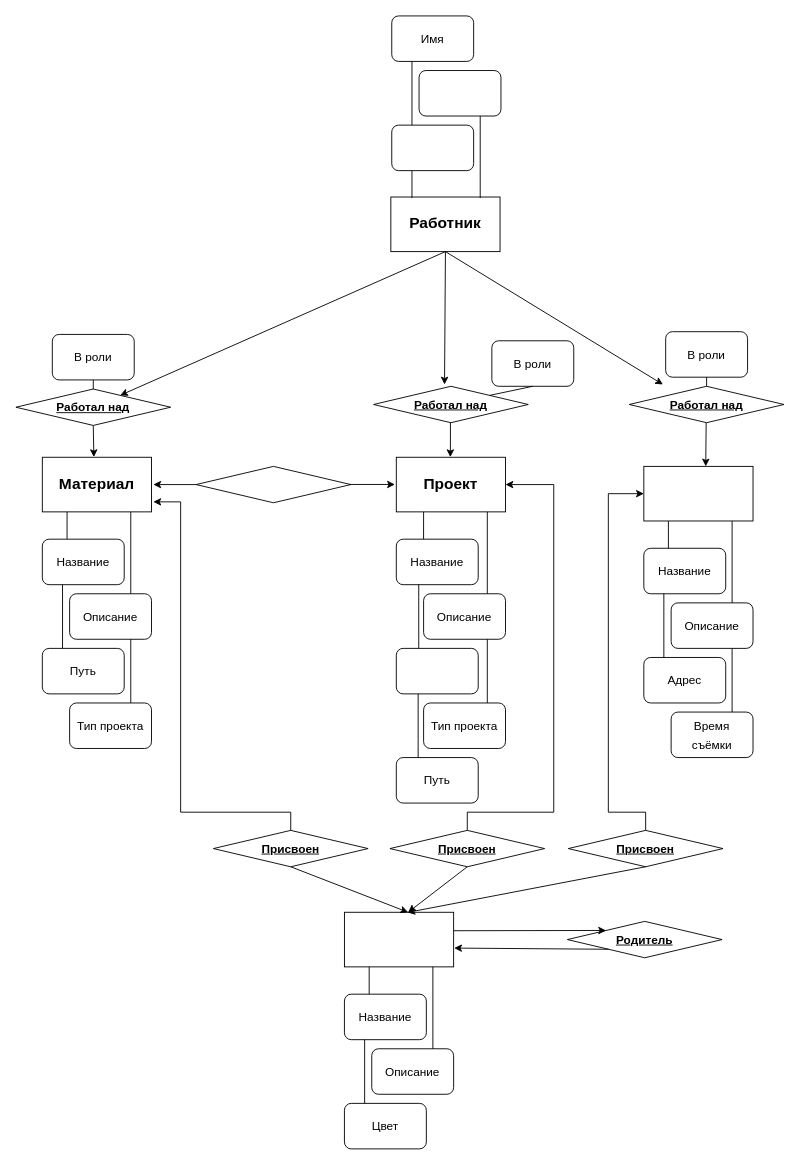
The diagram is 800 pixels wide and 1165 high, and some of its shapes have lost their labels. The shapes that lost their labels are listed below. From the top down, each one's centre as x and y in pixels, then its label:
[459,93]: Фамилия
[432,147]: Должность
[273,484]: Импортирован
[698,493]: Съёмка
[436,670]: Срок сдачи
[399,939]: Тег
